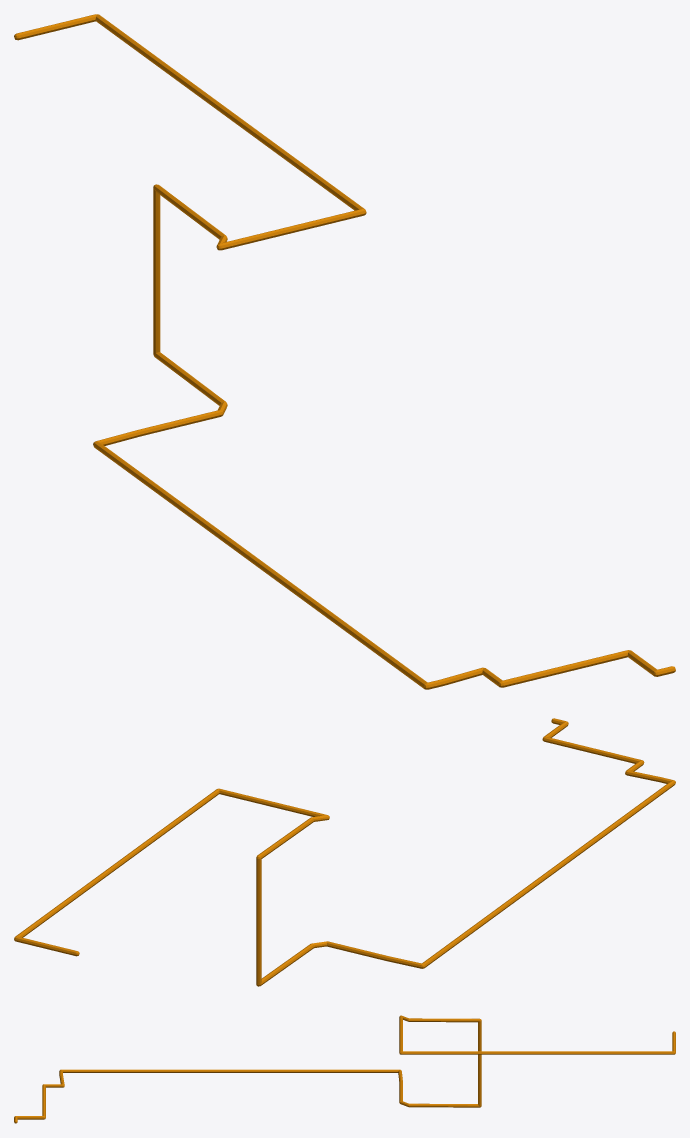
3 renders of one model, top to bottom at view 1: azimuth 30°, elevation 25°; view 2: azimuth 150°, elevation 25°; view 3: azimuth 270°, elevation 25°, orthographic. The views are drawn at different scales.
Size of the model in its own units: 862 by 520 by 3517.
